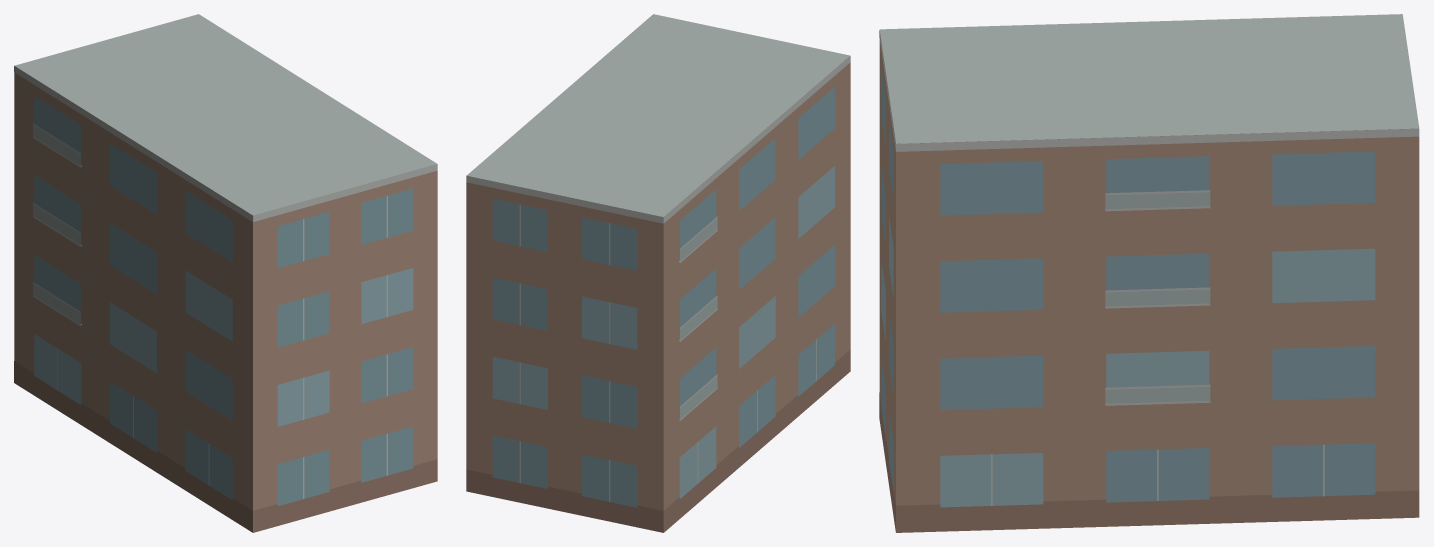
Rendered from survey-upis-32739392.glb.
3 views of the same model, side by side, from view 1: azimuth 30°, elevation 25°; view 2: azimuth 150°, elevation 25°; view 3: azimuth 270°, elevation 25° (orthographic). The views are drawn at different scales.
Parts seen in each view (by area): view 1: survey-upis-32739392.tmp; view 2: survey-upis-32739392.tmp; view 3: survey-upis-32739392.tmp.
Boxes of the visible parts, box(x1,y1,x2,y2) form: survey-upis-32739392.tmp: box(14, 14, 437, 532); survey-upis-32739392.tmp: box(466, 14, 850, 532); survey-upis-32739392.tmp: box(879, 14, 1419, 532).
Bounding box in the file's own units: 8.45 × 11.8 × 14.85.
